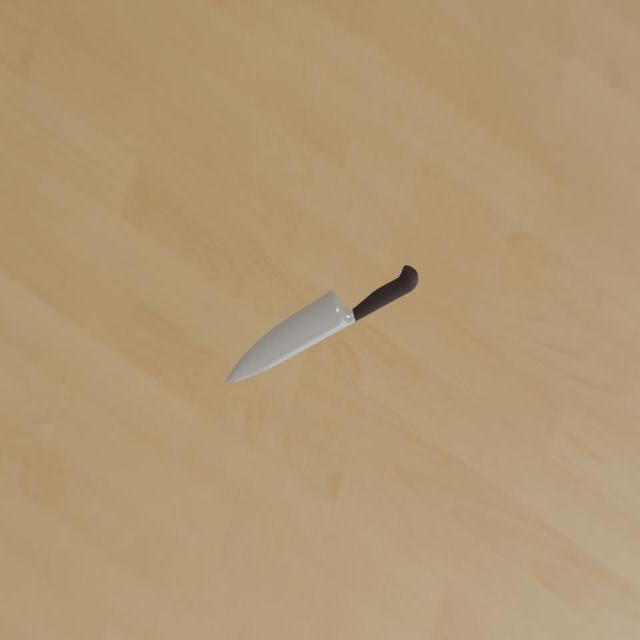knife: (351, 265, 418, 322)
